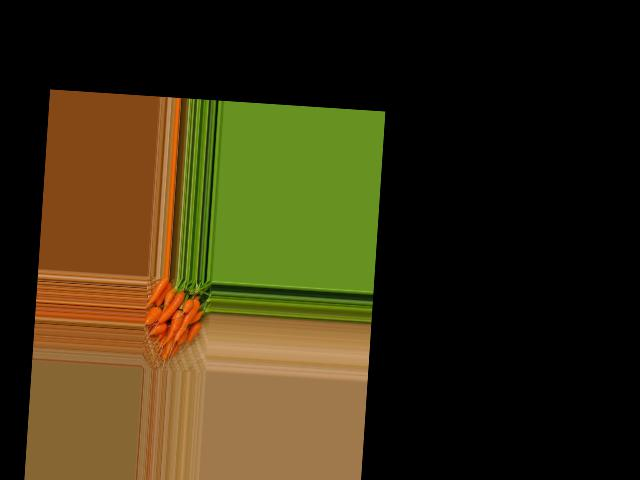carrot: (189, 312, 205, 327)
